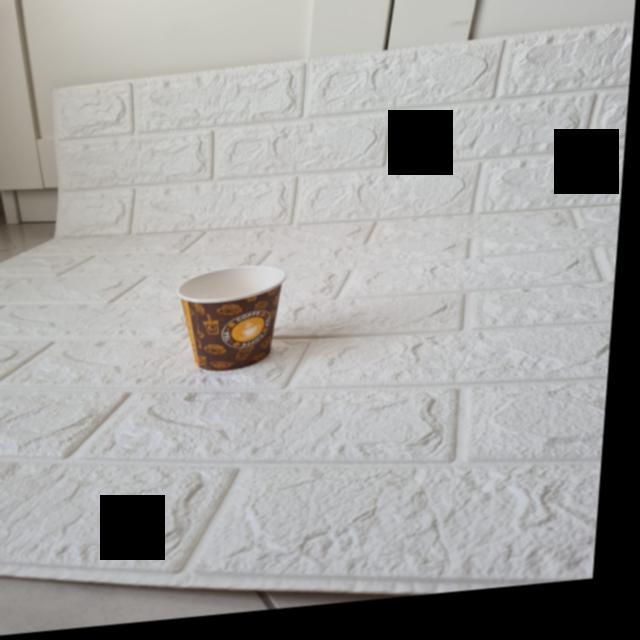cups: (179, 269, 296, 380)
